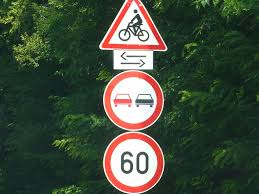Speed_limit_60km: (101, 133, 166, 194)
